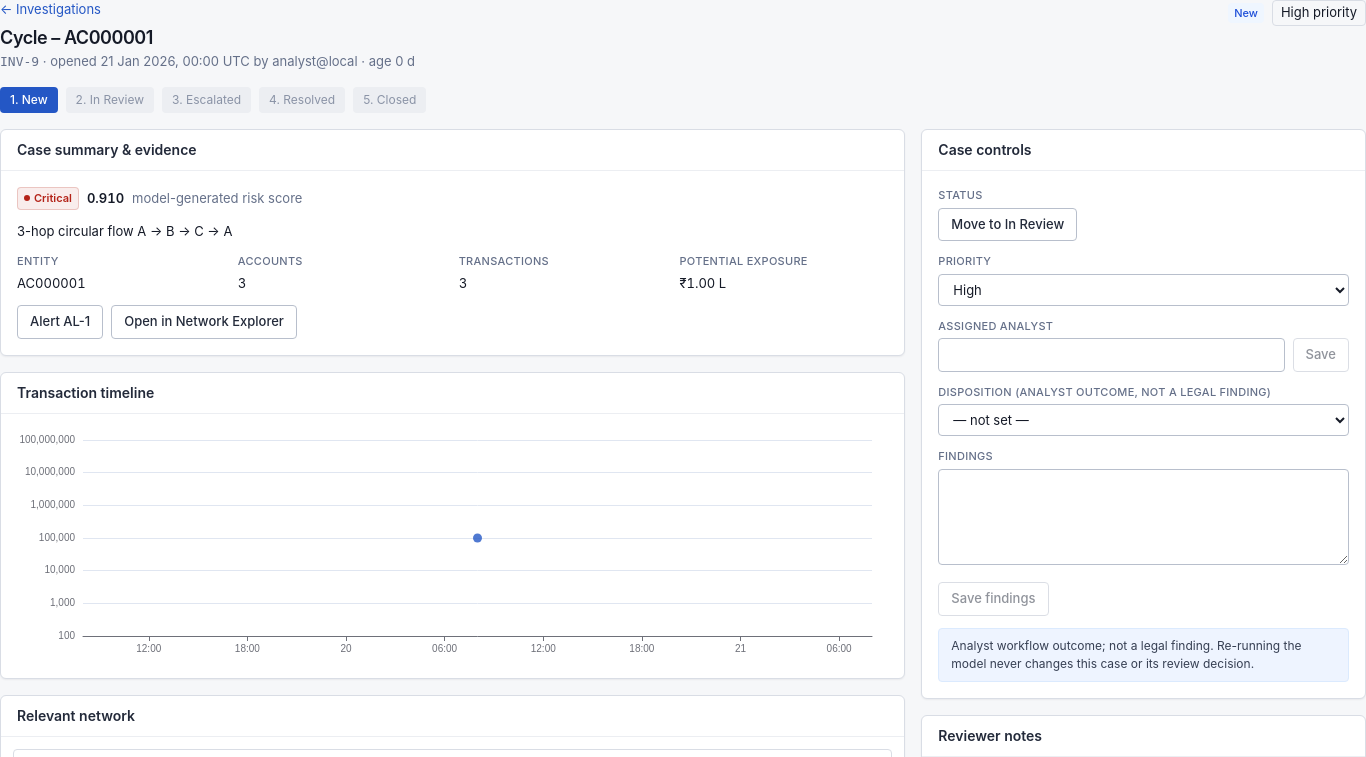
Test: investigation workspace › changes status and surfaces server-side validation errors
The width and height of the screenshot is (1366, 757).
Click the button "Move to In Review": point(1008, 224) x1=938 y1=208 x2=1077 y2=241
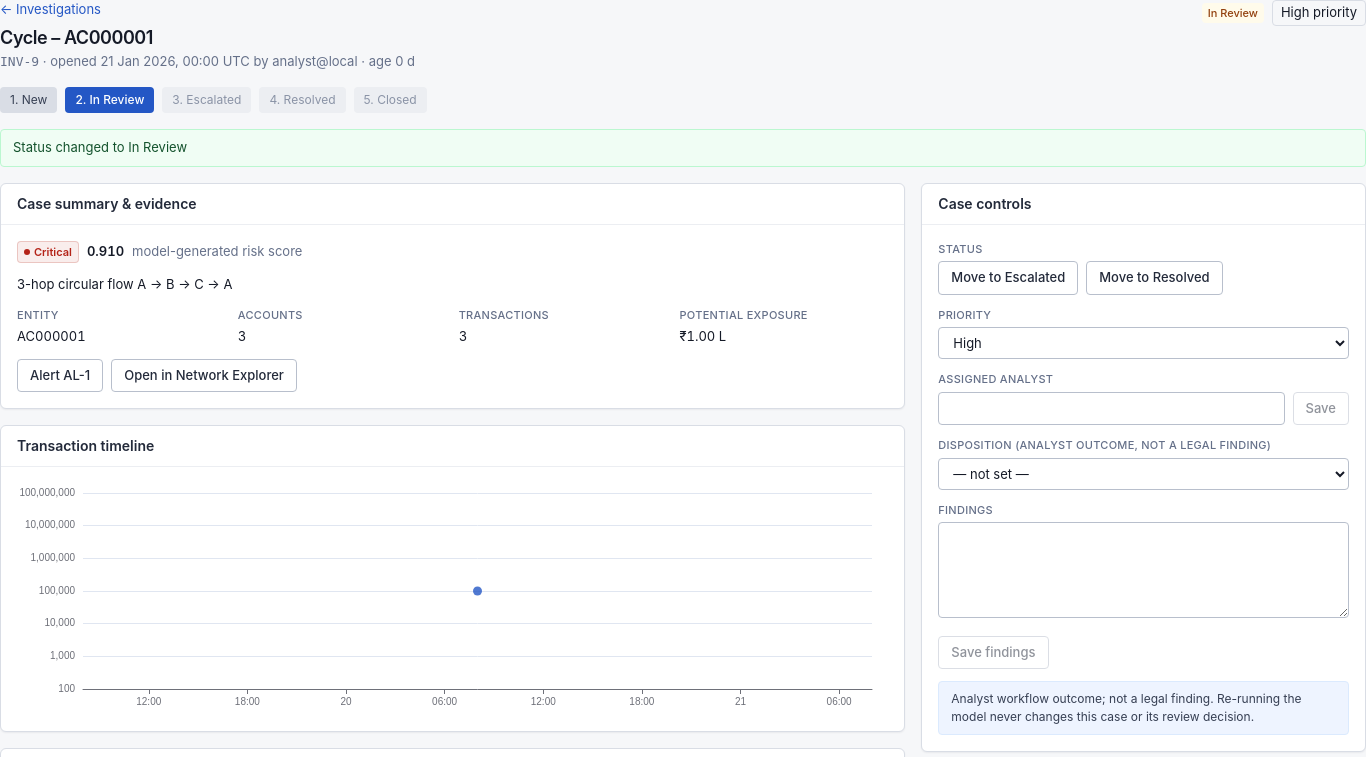
Expected: the text "Status changed to In Review" is shown, x1=0 y1=129 x2=1365 y2=166
Click the button "Move to Resolved": point(1154, 278) x1=1086 y1=261 x2=1223 y2=294
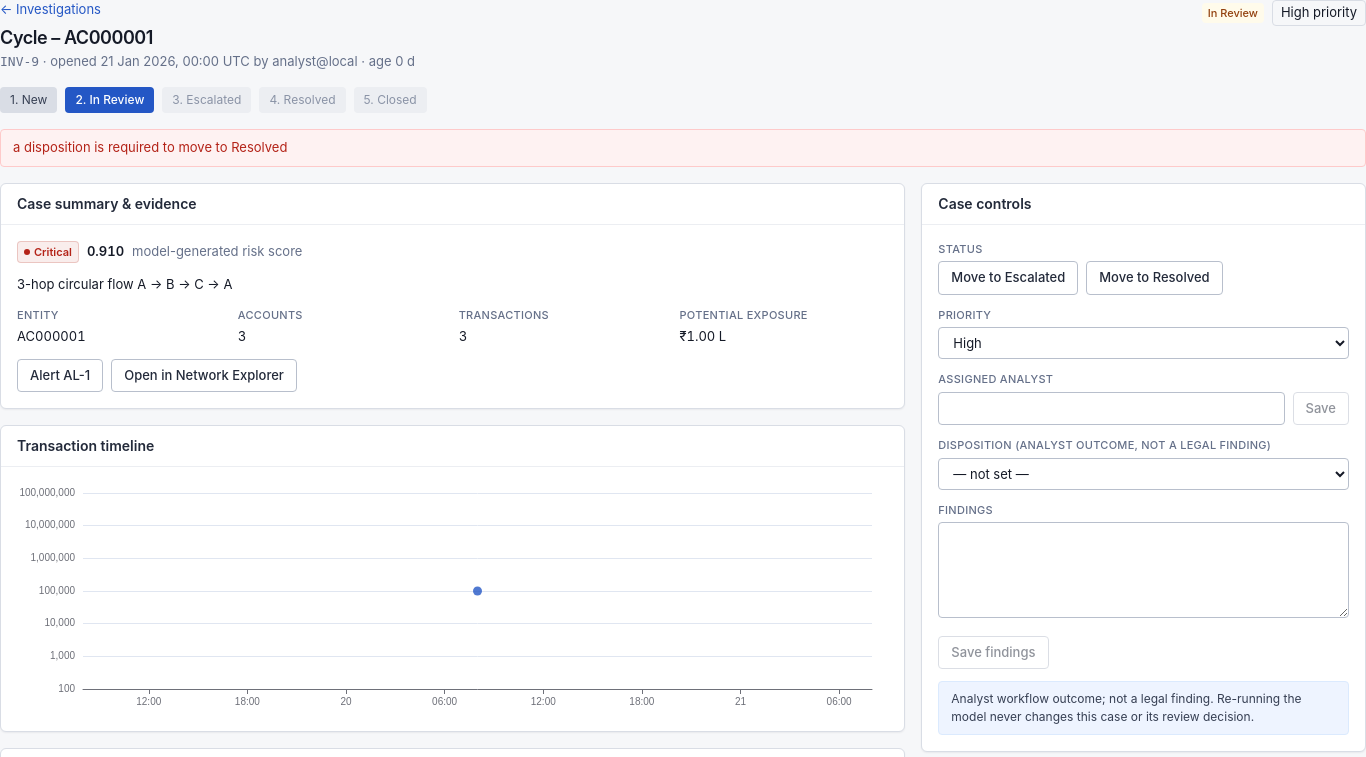
Expected: the text "Disposition (analyst outcome, not a legal finding)" is shown, x1=938 y1=438 x2=1271 y2=452
Expected: the text "a disposition is required to move to Resolved" is shown, x1=0 y1=129 x2=1365 y2=166
